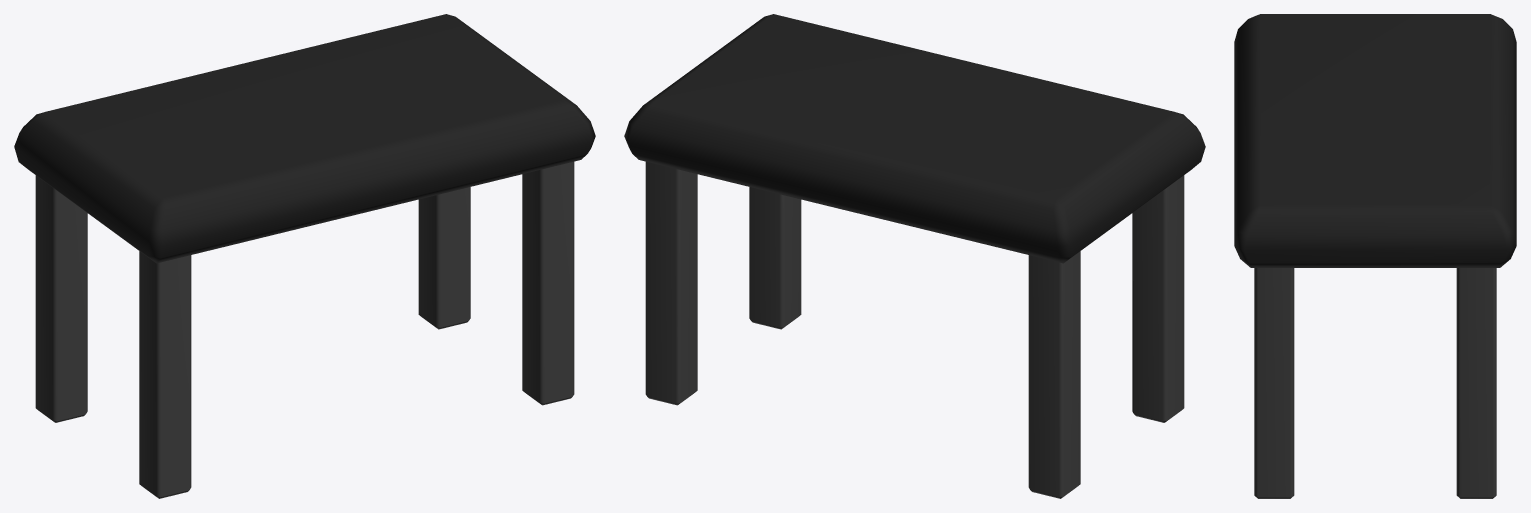
Rendered from chair_057.fbx.
3 views of the same model, side by side, from view 1: azimuth 30°, elevation 25°; view 2: azimuth 150°, elevation 25°; view 3: azimuth 270°, elevation 25° (orthographic). The views are drawn at different scales.
Visible parts, largest first — view 1: chair_057; view 2: chair_057; view 3: chair_057.
Boxes of the visible parts, x1,y1,x2,y2 form: chair_057: (14, 14, 595, 498); chair_057: (624, 14, 1205, 498); chair_057: (1234, 14, 1516, 498).
Bounding box in the file's own units: 84.39 × 47.28 × 53.91.
